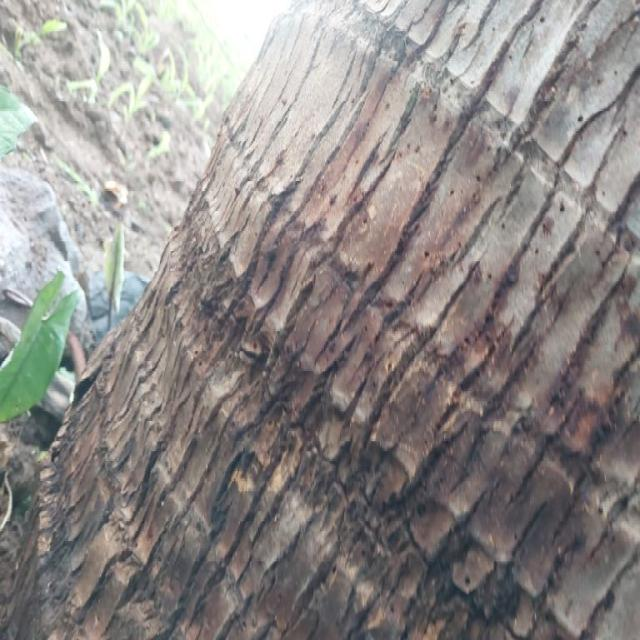stembleeding: (136, 190, 599, 618)
